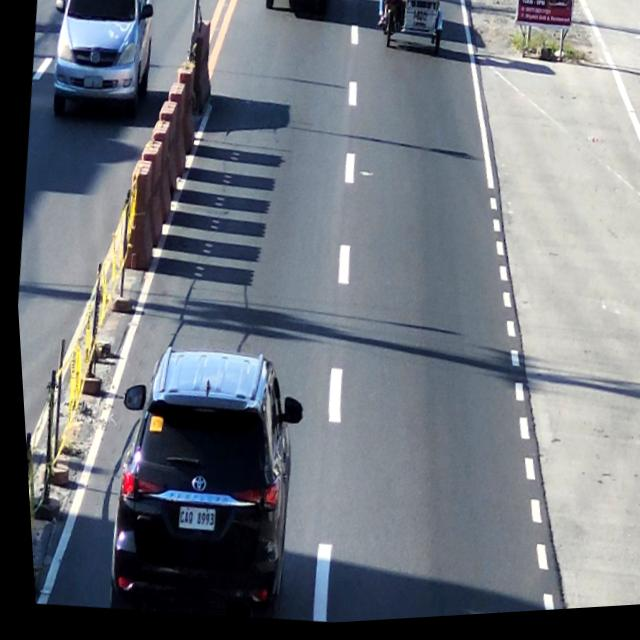Car: (90, 338, 305, 630)
License-Plate: (166, 500, 212, 539)
Tricycle: (372, 0, 449, 64)
